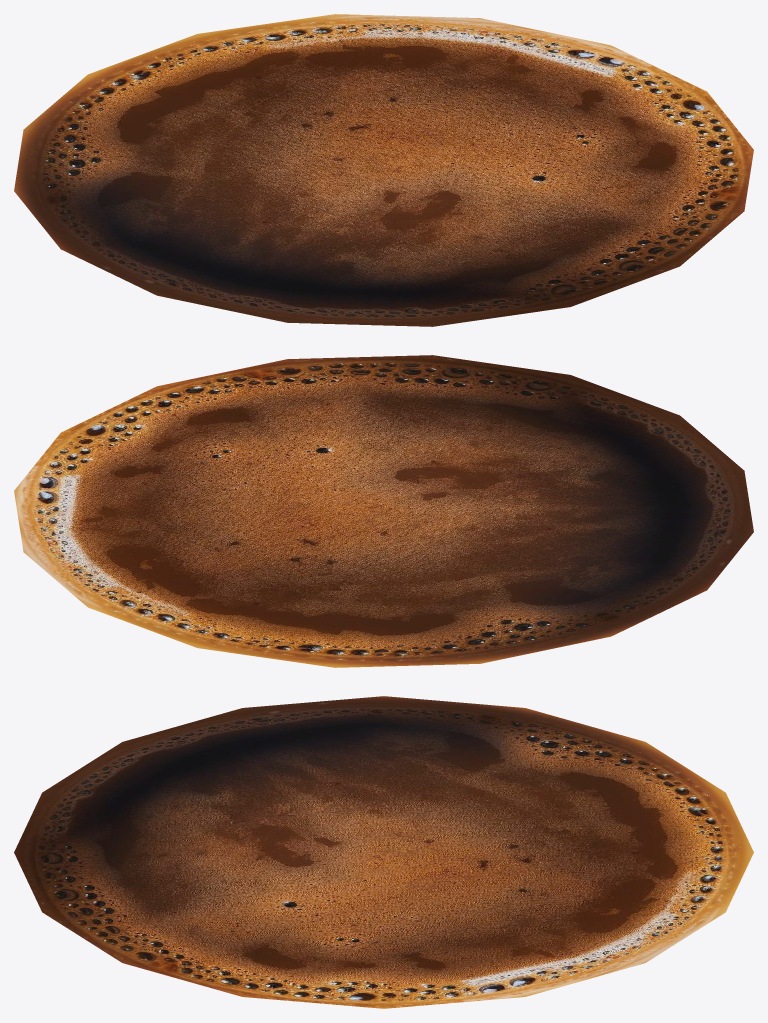
Rendered from coffee.glb.
The picture shows the model from 3 angles, top to bottom: view 1: azimuth 30°, elevation 25°; view 2: azimuth 150°, elevation 25°; view 3: azimuth 270°, elevation 25°; orthographic projection.
Parts seen in each view (by area): view 1: coffee; view 2: coffee; view 3: coffee.
Part boxes in pixels (x1,y1,x2,y2): coffee: (14,14,753,326); coffee: (14,355,753,667); coffee: (14,696,753,1008).
Bounding box in the file's own units: 1.85 × 0 × 1.85.
Materials: 1 (1 with a texture image).
